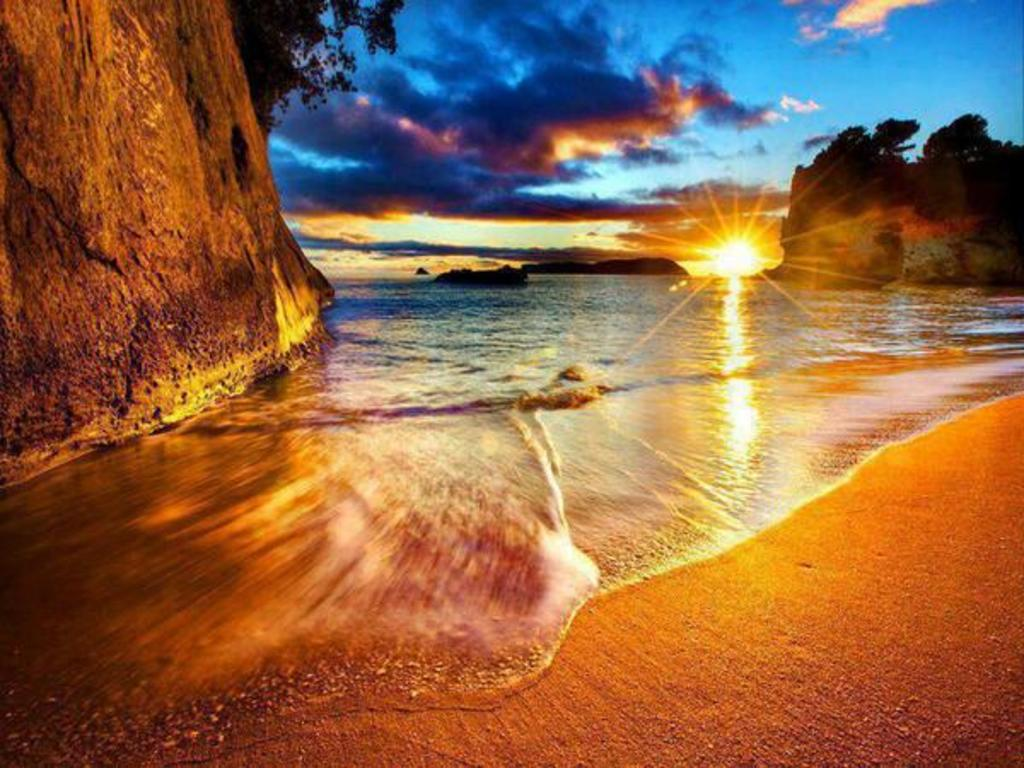Tree: (221, 0, 421, 151), (899, 98, 1022, 223), (807, 95, 960, 194)
